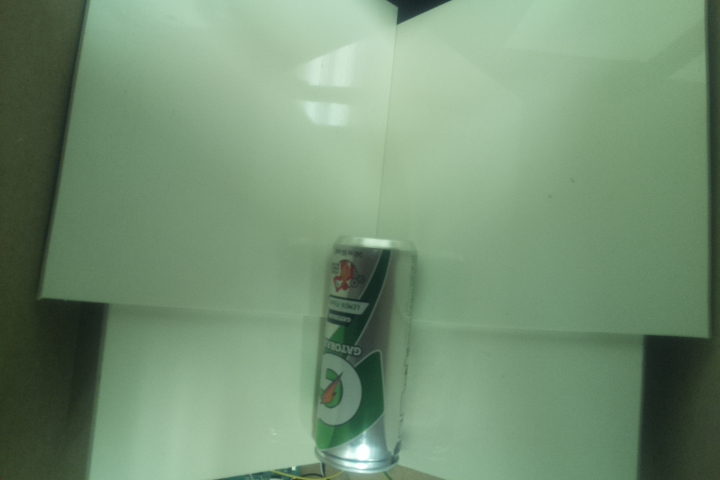can: (307, 234, 416, 475)
